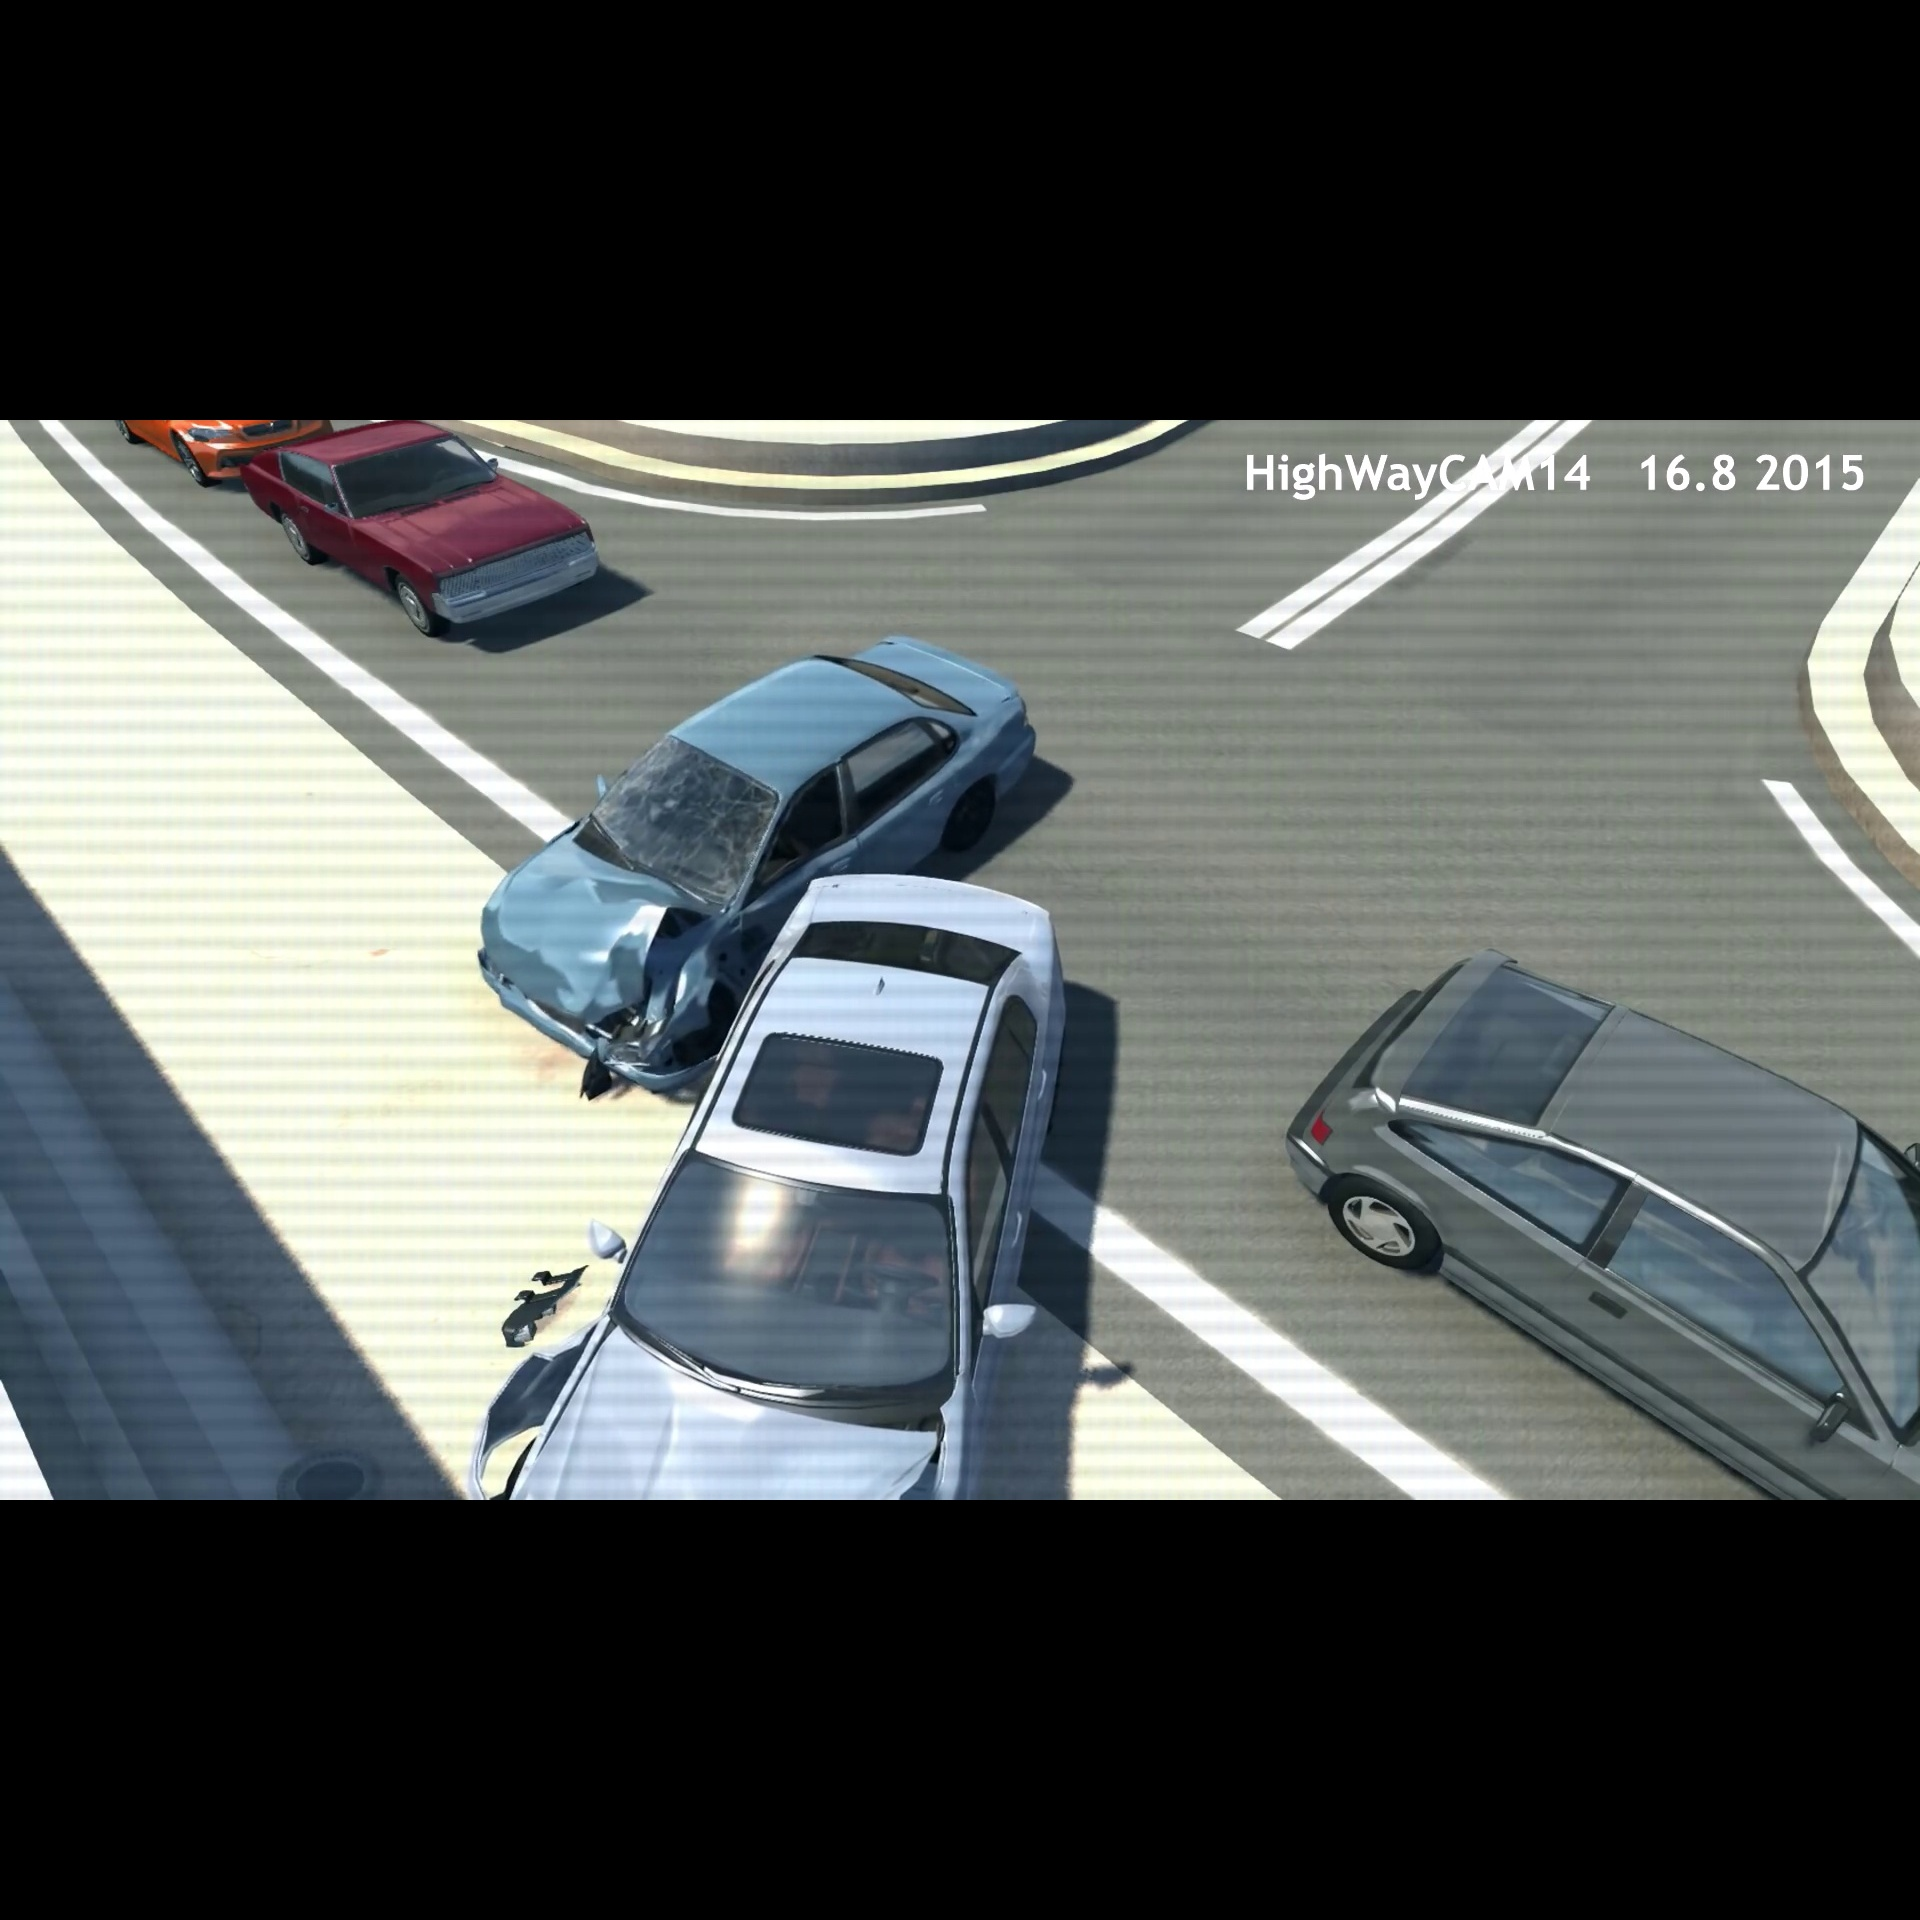vehicle: (1261, 927, 1920, 1496), (506, 863, 1085, 1498), (480, 628, 1046, 1092), (244, 422, 605, 649)
